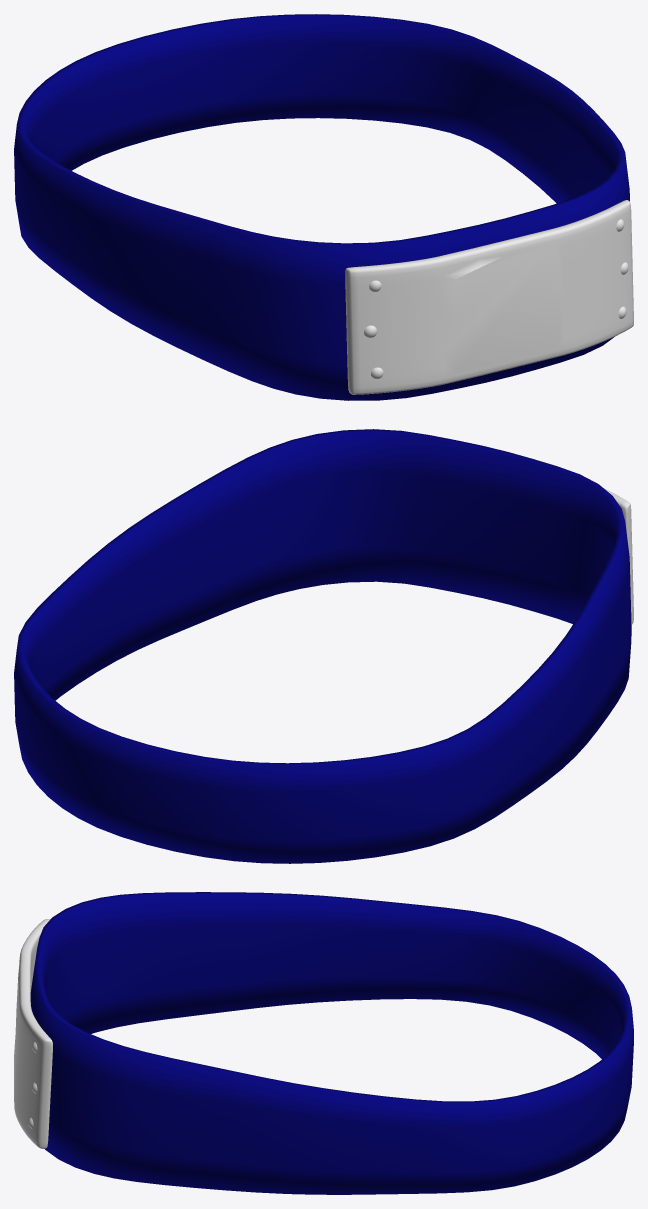
File: Head_Ninja.fbx
3 views of the same model, one above another, from view 1: azimuth 30°, elevation 25°; view 2: azimuth 150°, elevation 25°; view 3: azimuth 270°, elevation 25° (orthographic). The views are drawn at different scales.
Parts seen in each view (by area): view 1: Head_Ninja; view 2: Head_Ninja; view 3: Head_Ninja.
Part boxes in pixels (box(x1,y1,x2,y2)): Head_Ninja: box(14, 14, 633, 400); Head_Ninja: box(14, 429, 633, 863); Head_Ninja: box(14, 892, 633, 1194).
Size of the model in its own units: 80.06 by 25.56 by 105.
